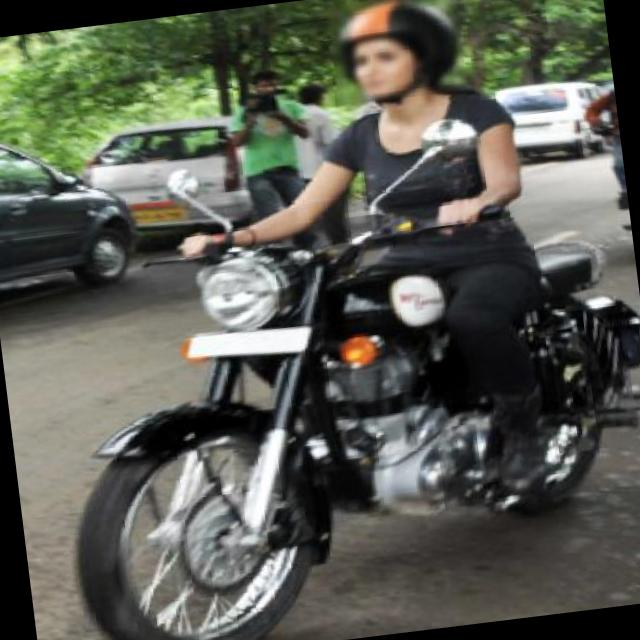With Helmet: (326, 0, 468, 106)
